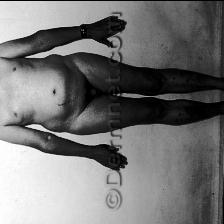Unclassified: (182, 104, 203, 122), (190, 73, 204, 91)
